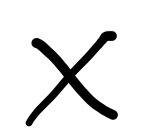mult: (25, 30, 116, 125)
